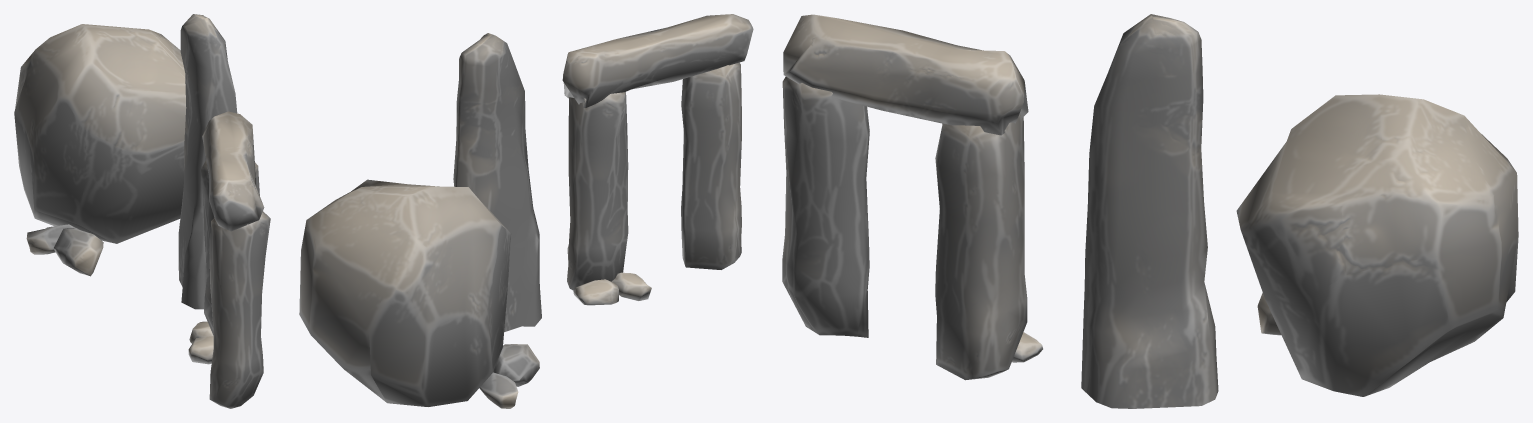
File: stylizedStones_edit_for_FBX.fbx
3 renders of one model, left to right at view 1: azimuth 30°, elevation 25°; view 2: azimuth 150°, elevation 25°; view 3: azimuth 270°, elevation 25°, orthographic. The views are drawn at different scales.
Visible parts, largest first — view 1: StylizedStones_Batch_01_04, StylizedStones_Batch_01_09, StylizedStones_Batch_01_08, StylizedStones_Batch_01_03, StylizedStones_Batch_01_07, StylizedStones_Batch_01_01, StylizedStones_Batch_01_06, StylizedStones_Batch_01_02, StylizedStones_Batch_01_05; view 2: StylizedStones_Batch_01_04, StylizedStones_Batch_01_08, StylizedStones_Batch_01_09, StylizedStones_Batch_01_01, StylizedStones_Batch_01_03, StylizedStones_Batch_01_07, StylizedStones_Batch_01_05, StylizedStones_Batch_01_06, StylizedStones_Batch_01_02; view 3: StylizedStones_Batch_01_04, StylizedStones_Batch_01_08, StylizedStones_Batch_01_01, StylizedStones_Batch_01_09, StylizedStones_Batch_01_03.
Part boxes in pixels (box(x1,y1,x2,y2)): StylizedStones_Batch_01_04: box(14, 24, 186, 243); StylizedStones_Batch_01_09: box(209, 211, 270, 408); StylizedStones_Batch_01_08: box(178, 14, 237, 309); StylizedStones_Batch_01_03: box(202, 111, 264, 231); StylizedStones_Batch_01_07: box(54, 228, 103, 276); StylizedStones_Batch_01_01: box(201, 160, 259, 335); StylizedStones_Batch_01_06: box(26, 224, 79, 254); StylizedStones_Batch_01_02: box(188, 336, 213, 364); StylizedStones_Batch_01_05: box(189, 321, 213, 343); StylizedStones_Batch_01_04: box(299, 179, 511, 406); StylizedStones_Batch_01_08: box(453, 33, 541, 332); StylizedStones_Batch_01_09: box(681, 62, 741, 269); StylizedStones_Batch_01_01: box(567, 92, 628, 290); StylizedStones_Batch_01_03: box(562, 14, 753, 107); StylizedStones_Batch_01_07: box(493, 344, 539, 386); StylizedStones_Batch_01_05: box(573, 279, 618, 305); StylizedStones_Batch_01_06: box(479, 372, 518, 408); StylizedStones_Batch_01_02: box(611, 272, 651, 300); StylizedStones_Batch_01_04: box(1236, 94, 1518, 396); StylizedStones_Batch_01_08: box(1081, 14, 1218, 408); StylizedStones_Batch_01_01: box(935, 109, 1027, 380); StylizedStones_Batch_01_09: box(782, 76, 869, 337); StylizedStones_Batch_01_03: box(783, 14, 1028, 135).
Size of the model in its own units: 267 by 370 by 656.
